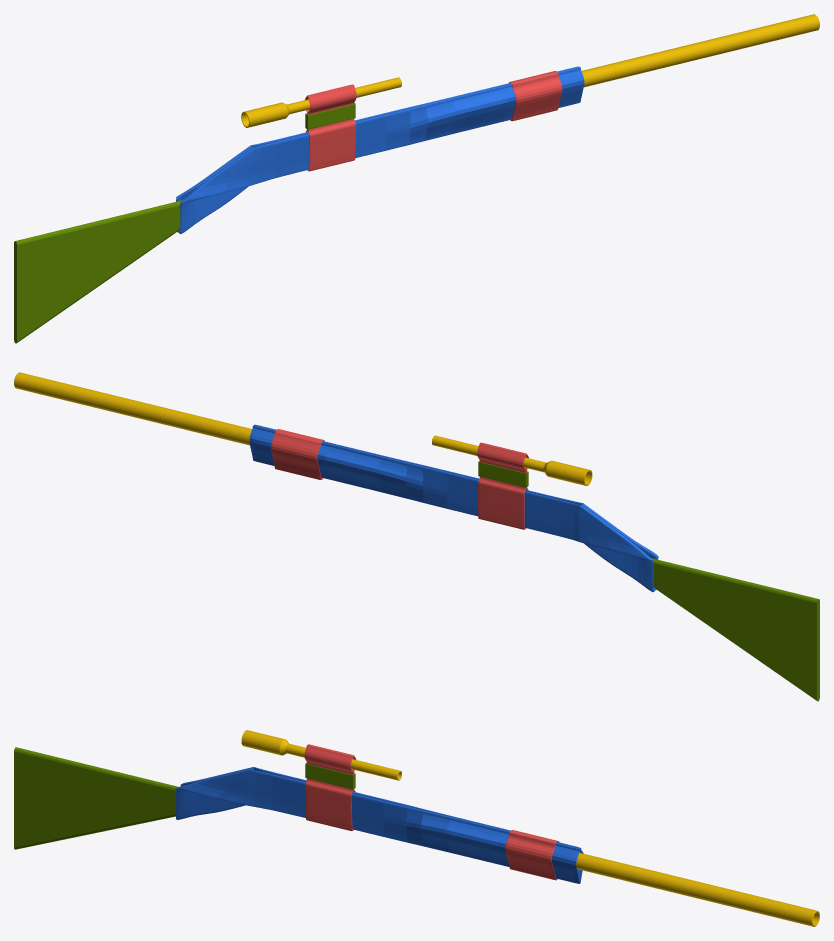
The model's file is paper sniper.fbx.
3 views of the same model, one above another, from view 1: azimuth 30°, elevation 25°; view 2: azimuth 150°, elevation 25°; view 3: azimuth 330°, elevation 25° (orthographic).
Parts seen in each view (by area): view 1: Plane.001, Plane, Cylinder.001, Plane.002, Plane.004, Cylinder, Plane.003; view 2: Plane.001, Plane, Cylinder.001, Plane.002, Plane.004, Cylinder, Plane.003; view 3: Plane.001, Plane, Cylinder.001, Plane.002, Plane.004, Cylinder, Plane.003.
Part boxes in pixels (left/top/right/bottom): Plane.001: left=176, top=66, right=584, bottom=233; Plane: left=14, top=200, right=182, bottom=343; Cylinder.001: left=581, top=14, right=819, bottom=87; Plane.002: left=305, top=84, right=356, bottom=171; Plane.004: left=509, top=71, right=562, bottom=121; Cylinder: left=241, top=77, right=401, bottom=127; Plane.003: left=305, top=103, right=355, bottom=129; Plane.001: left=249, top=424, right=658, bottom=591; Plane: left=651, top=558, right=819, bottom=701; Cylinder.001: left=14, top=372, right=251, bottom=445; Plane.002: left=477, top=442, right=528, bottom=529; Plane.004: left=271, top=429, right=324, bottom=479; Cylinder: left=432, top=435, right=592, bottom=485; Plane.003: left=478, top=461, right=528, bottom=487; Plane.001: left=175, top=767, right=583, bottom=883; Plane: left=14, top=747, right=178, bottom=849; Cylinder.001: left=576, top=852, right=819, bottom=926; Plane.002: left=304, top=744, right=356, bottom=830; Plane.004: left=505, top=830, right=558, bottom=880; Cylinder: left=241, top=730, right=401, bottom=780; Plane.003: left=305, top=762, right=355, bottom=789.
Bounding box in the file's own units: 1089 × 229 × 27.95.
